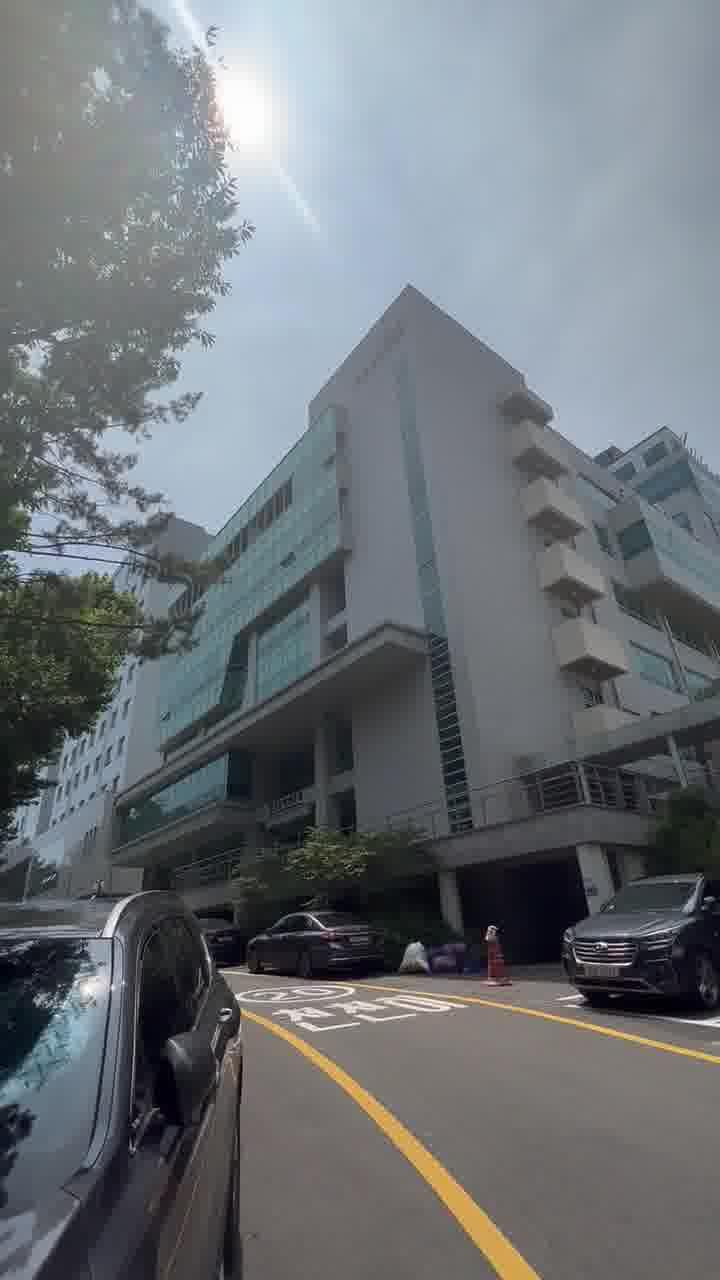building: (162, 246, 720, 848)
